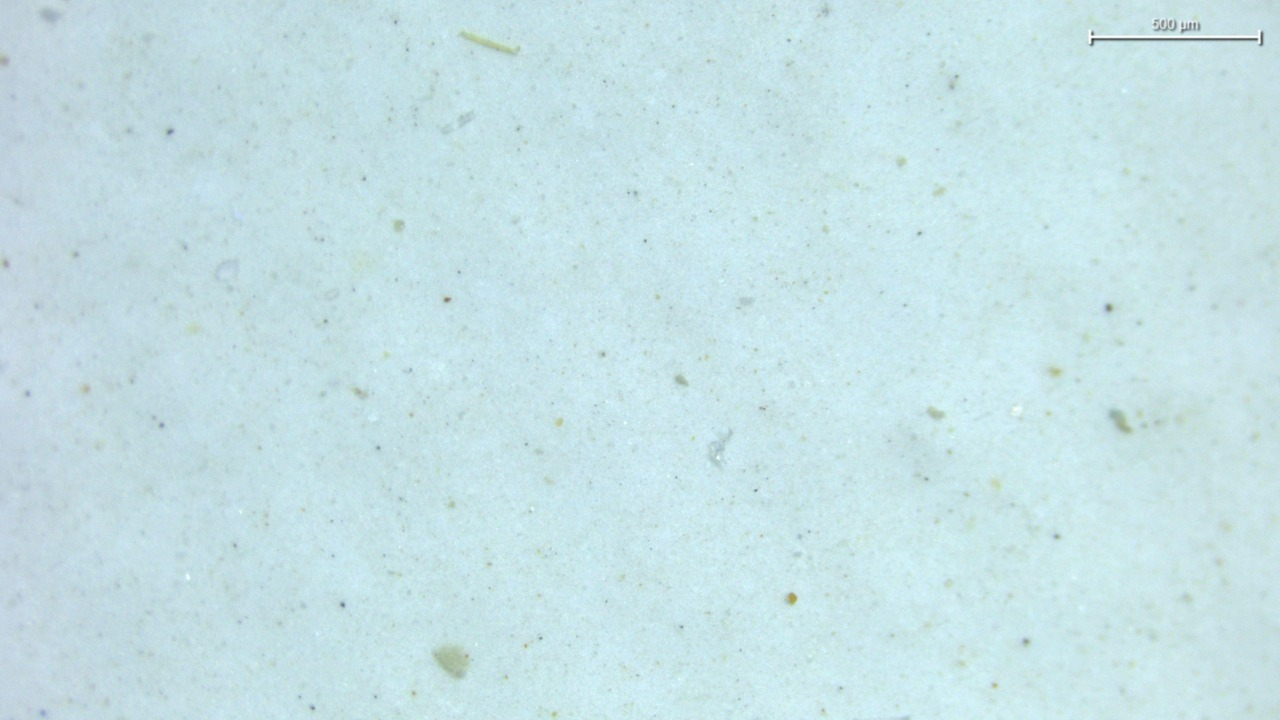microplastic_fragment: (707, 429, 733, 468)
